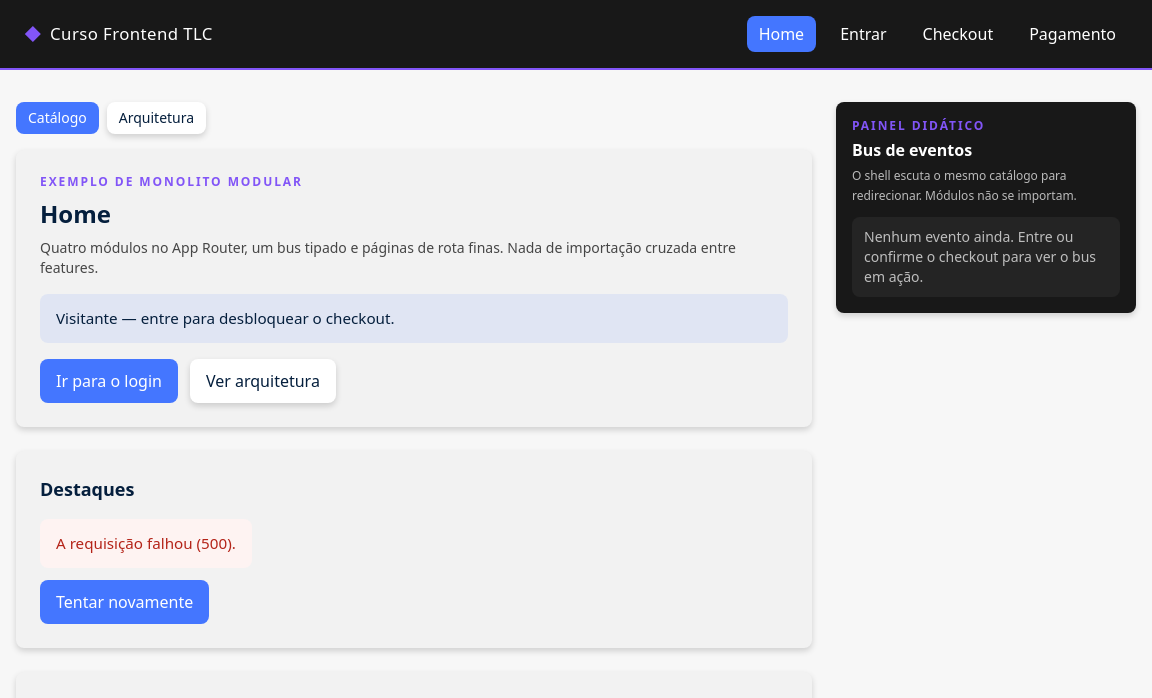
home module › mostra erro com retry e permite tentar novamente
The image size is (1152, 698).
Expected: the message "A requisição falhou (500)." is shown, [40,519,252,568]
Click the button "Tentar novamente" at (125, 602), box [40,580,209,624]
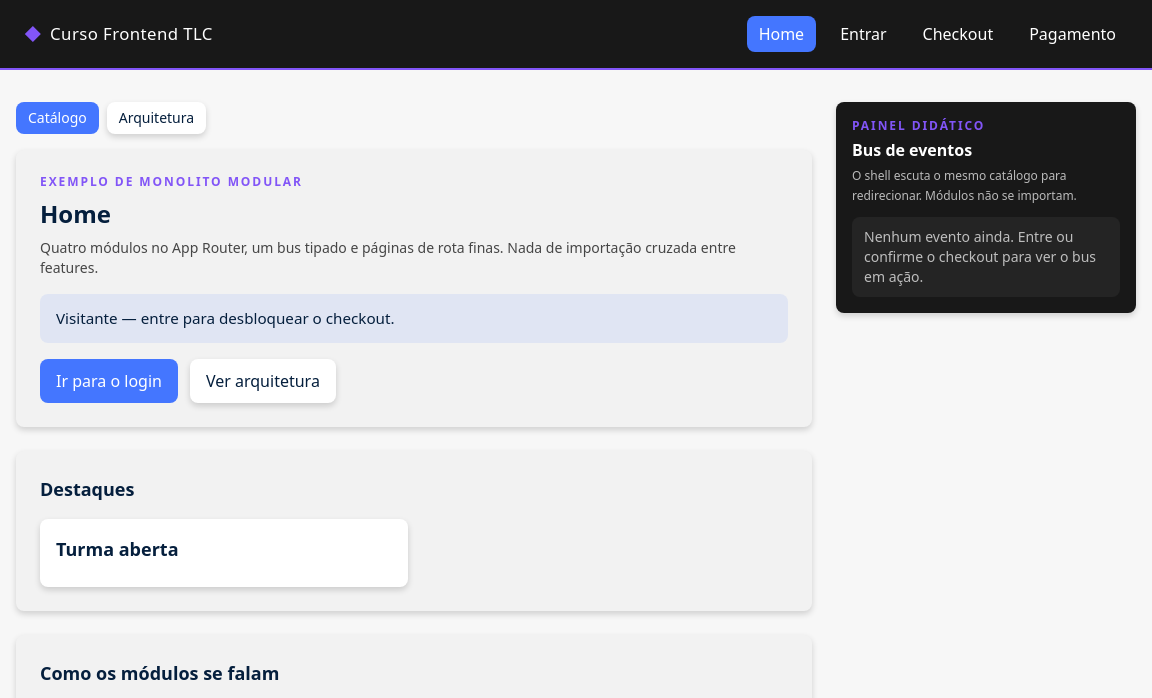
Expected: the link "Turma aberta" is shown, [56,537,178,561]
